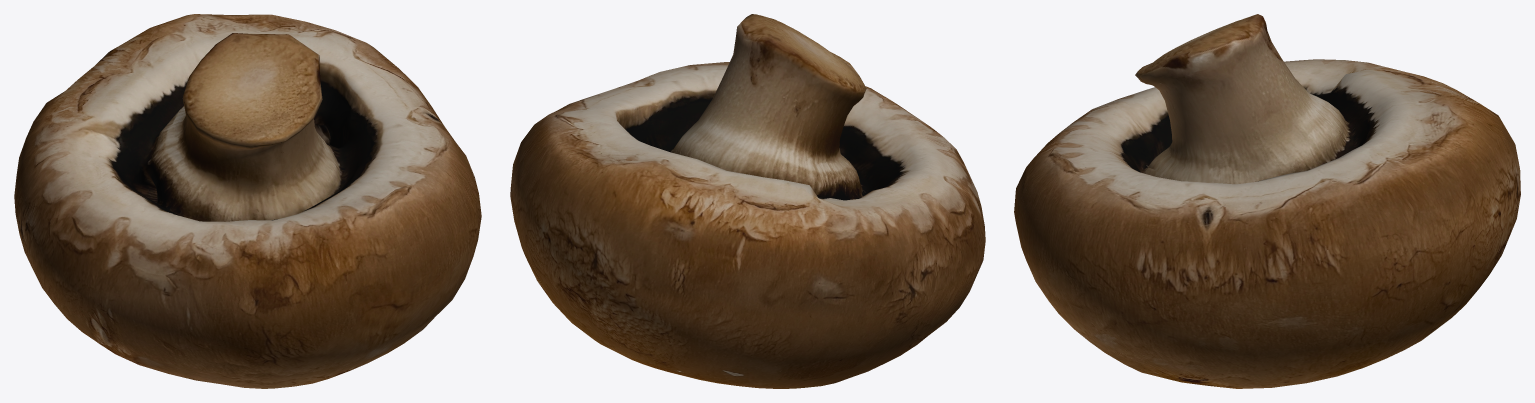
File: kiri_champignon.gltf
The picture shows the model from 3 angles, left to right: view 1: azimuth 30°, elevation 25°; view 2: azimuth 150°, elevation 25°; view 3: azimuth 270°, elevation 25°; orthographic projection. The views are drawn at different scales.
Parts seen in each view (by area): view 1: A79_Mushroom; view 2: A79_Mushroom; view 3: A79_Mushroom.
Boxes of the visible parts, bbox=[...] form: A79_Mushroom: bbox=[14, 14, 481, 388]; A79_Mushroom: bbox=[510, 14, 985, 388]; A79_Mushroom: bbox=[1014, 14, 1520, 388].
Size of the model in its own units: 0.027 by 0.0207 by 0.0286.
Materials: 1 (1 with a texture image).
